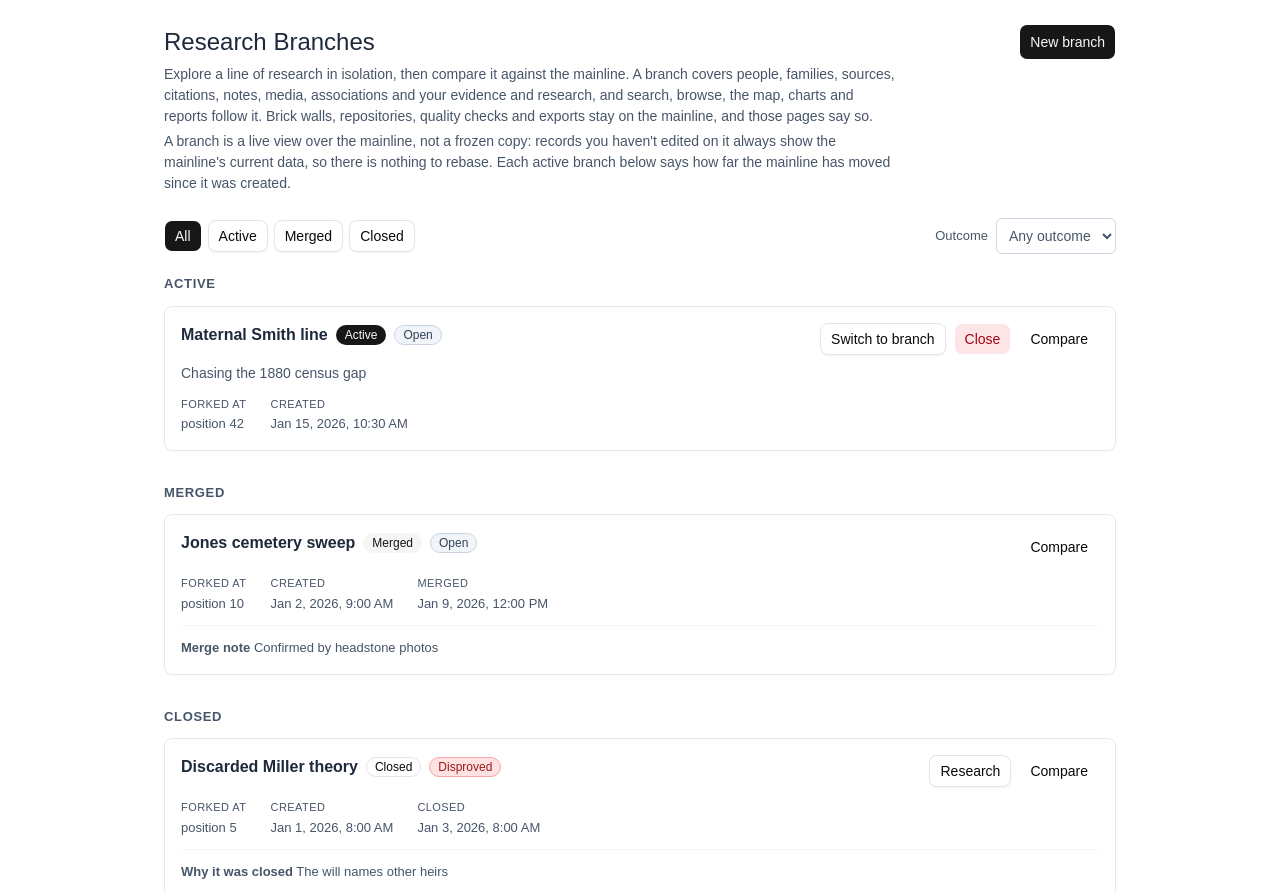
Test: Branches page › reports a failed copy without undoing the close
Expected: the link "Maternal Smith line" is shown, [181,322,328,346]
Click the button "Close".
click(982, 338)  # box [954,322,1011,354]
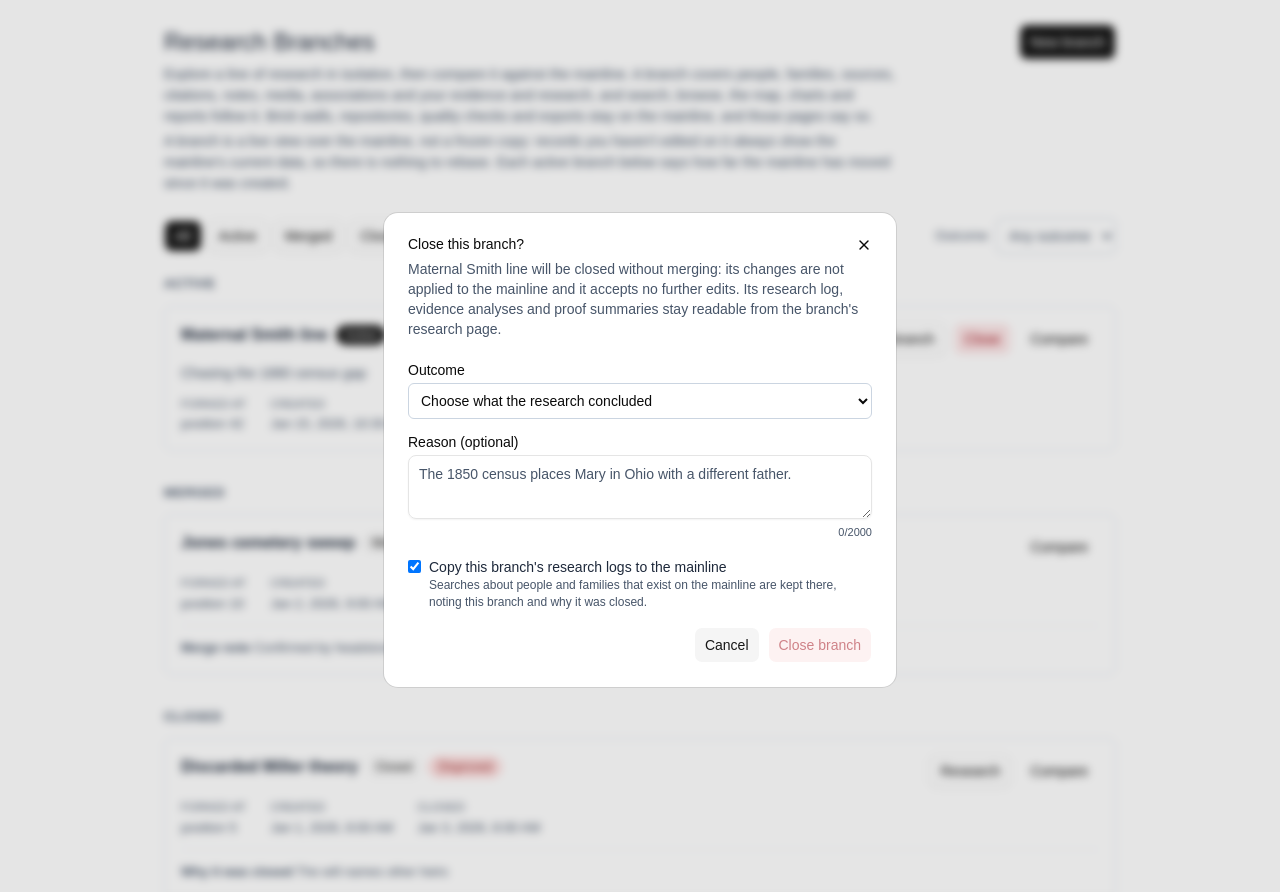
Select "Superseded" in the dropdown labelled "Outcome" at [640, 401], box [408,383,872,419]
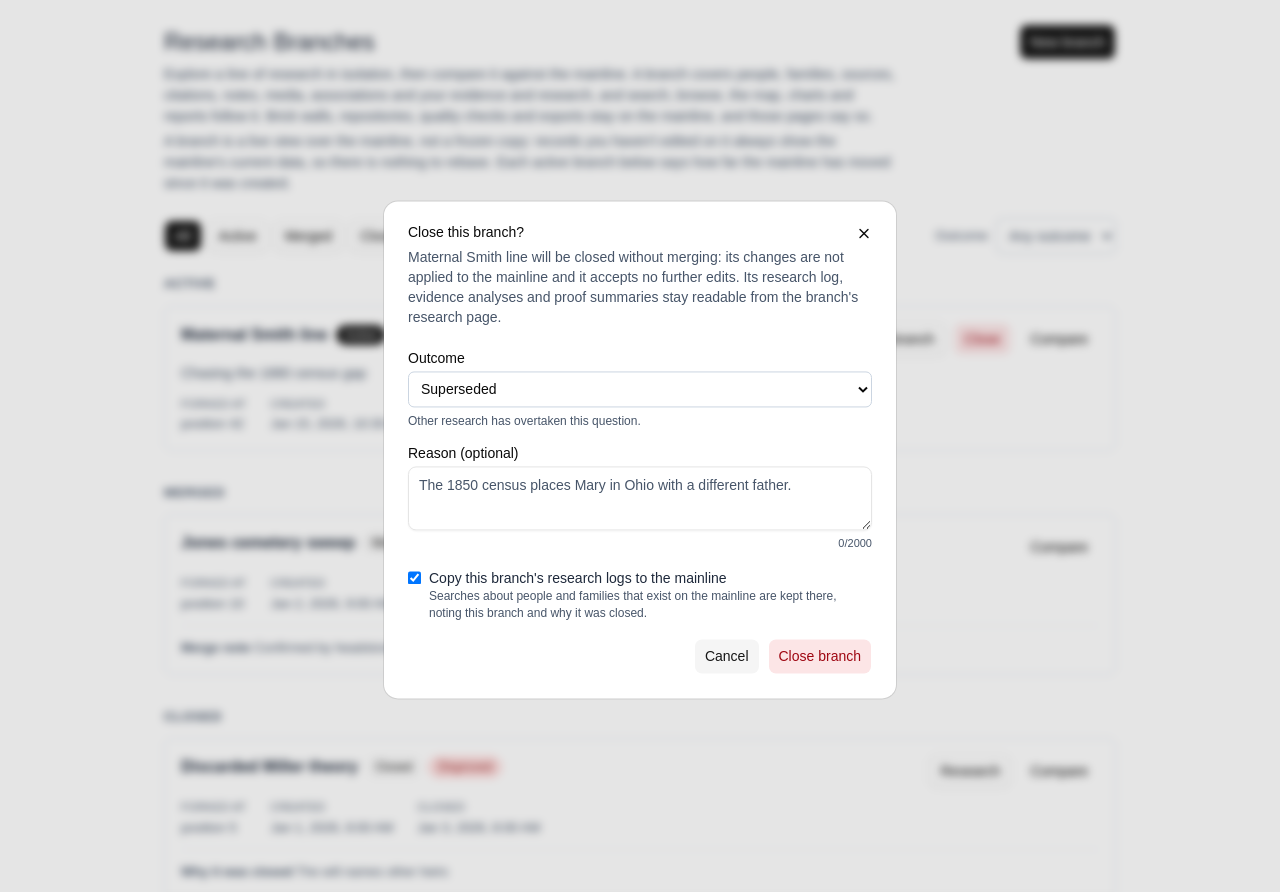
Click the button "Close branch".
click(820, 657)  # box [768,639,872,675]
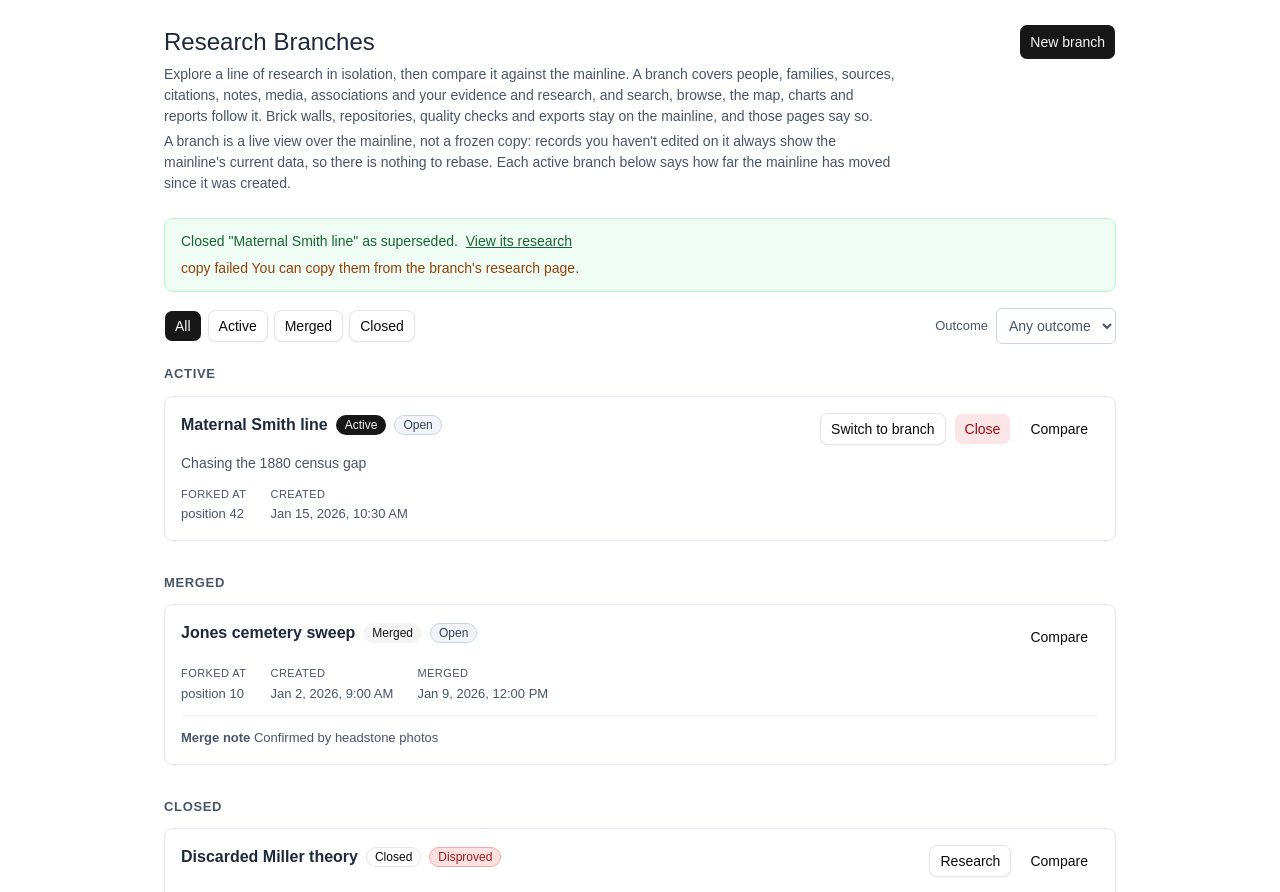
Now the text "copy failed" is shown, box [181,260,579,276]
Now the text "Closed \"Maternal Smith line\" as superseded" is shown, box [181,233,462,249]
